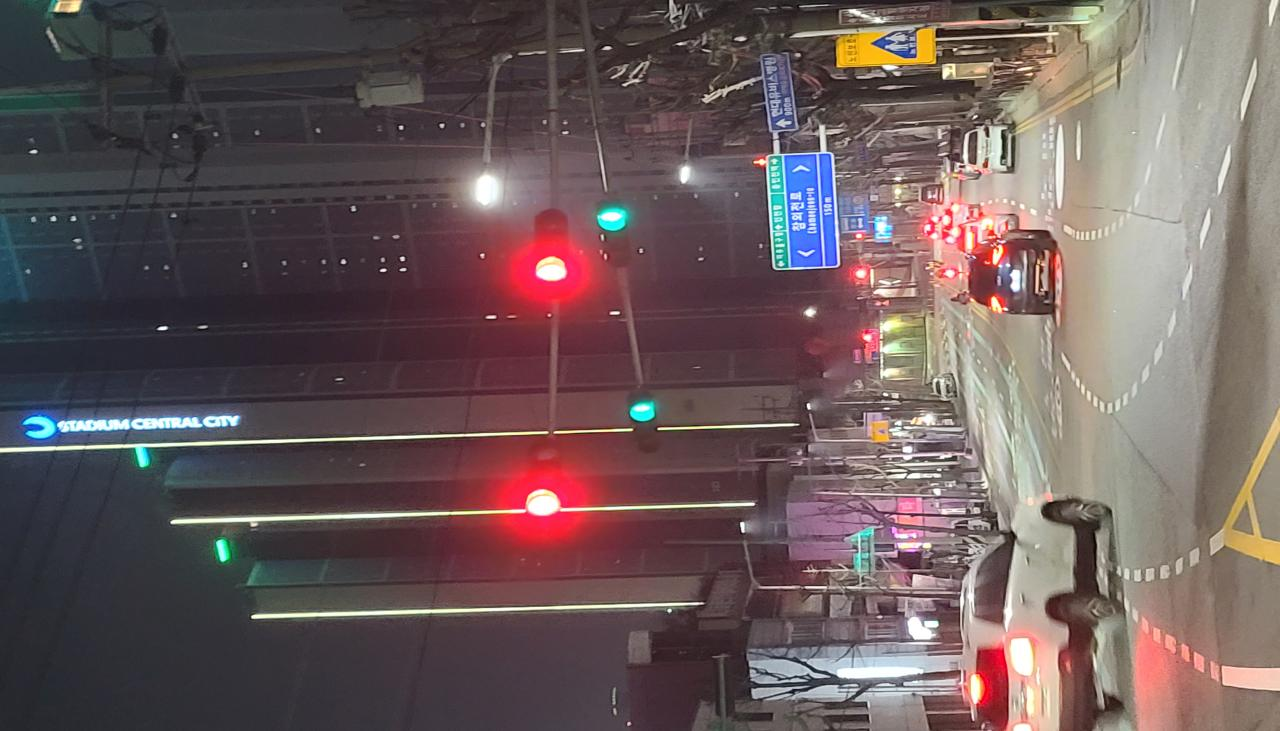Green Light: (654, 454, 690, 479), (402, 478, 438, 502)
Red Light: (274, 397, 321, 430), (586, 406, 631, 436)
